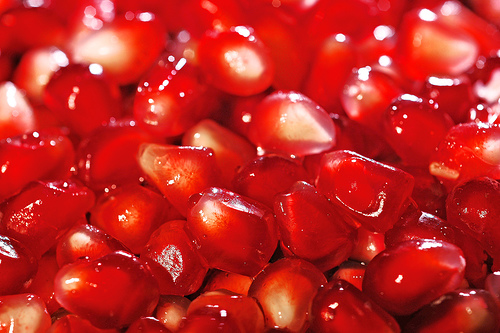pomogranate: (184, 183, 278, 275)
